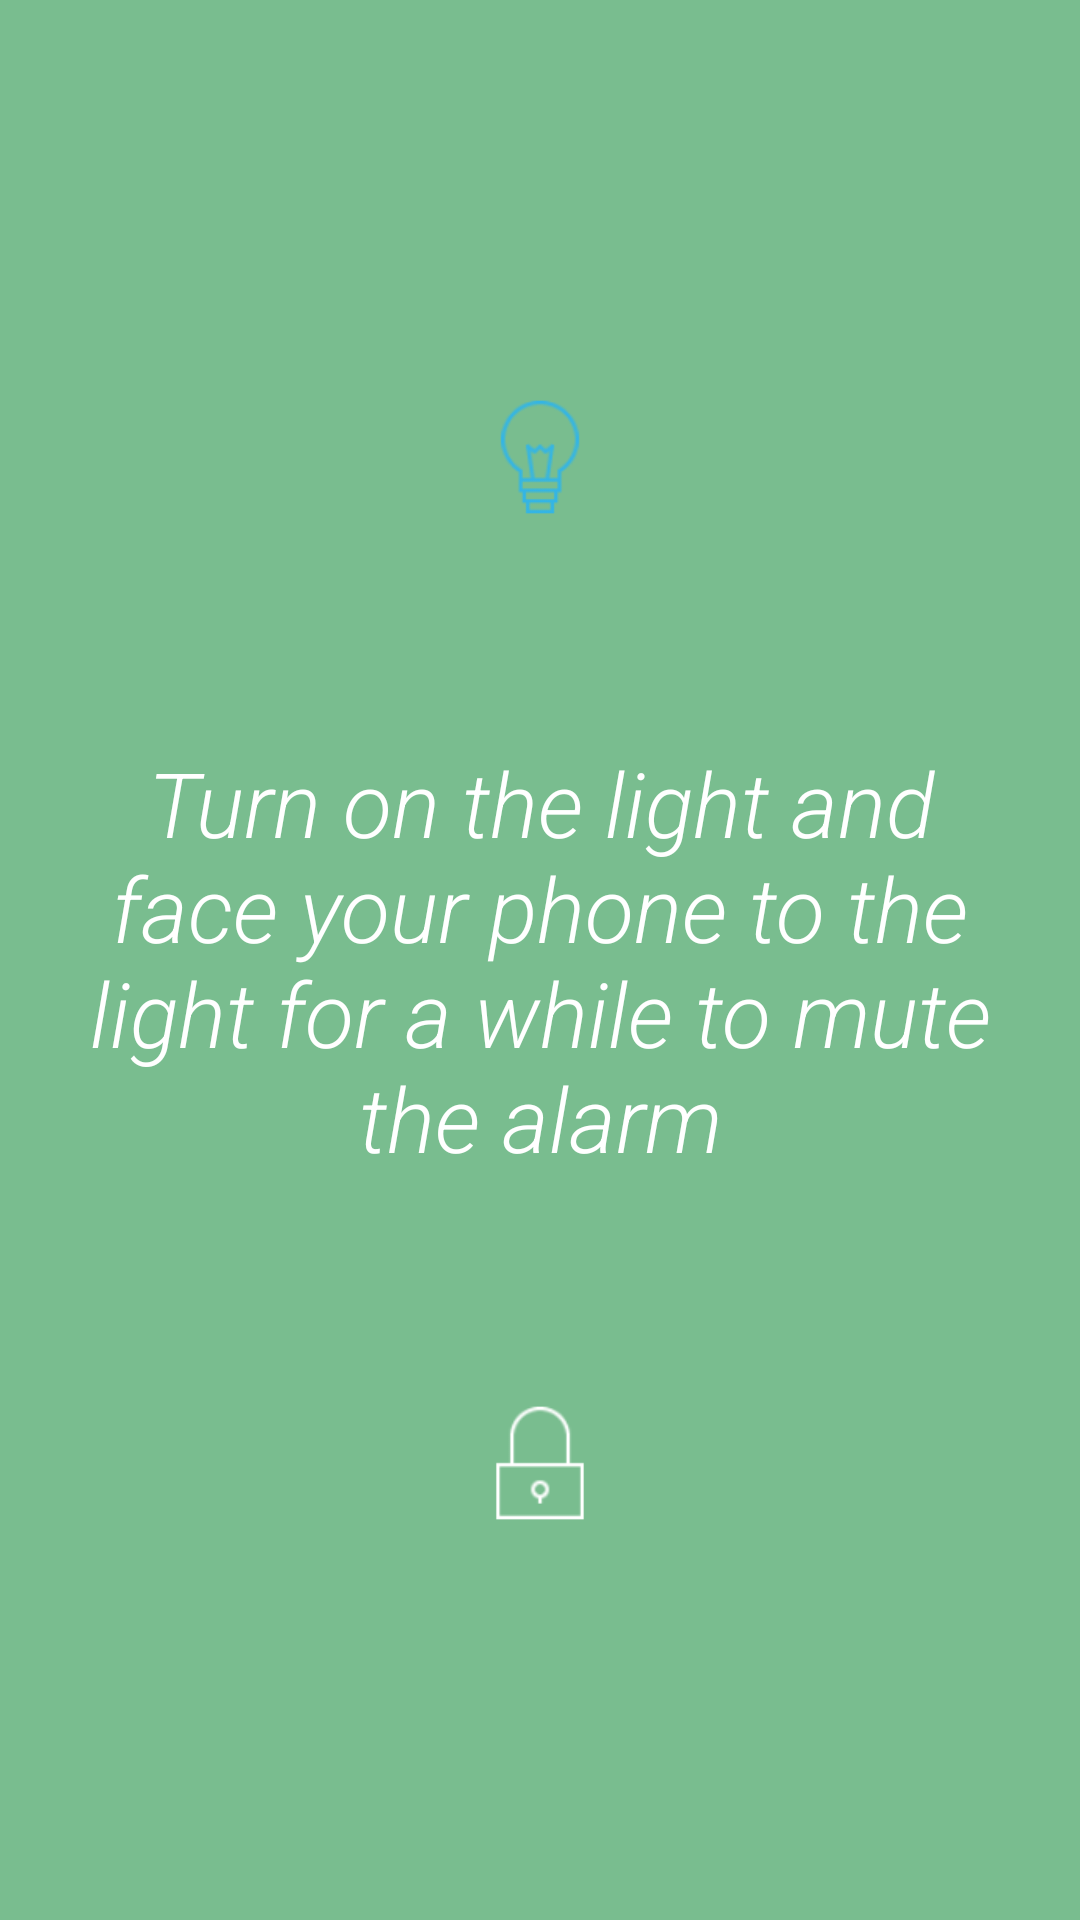

Named icons in this screenshot (1080 × 1920) and their centers, (x=x, y=y):
lightbulb: (x=540, y=457)
